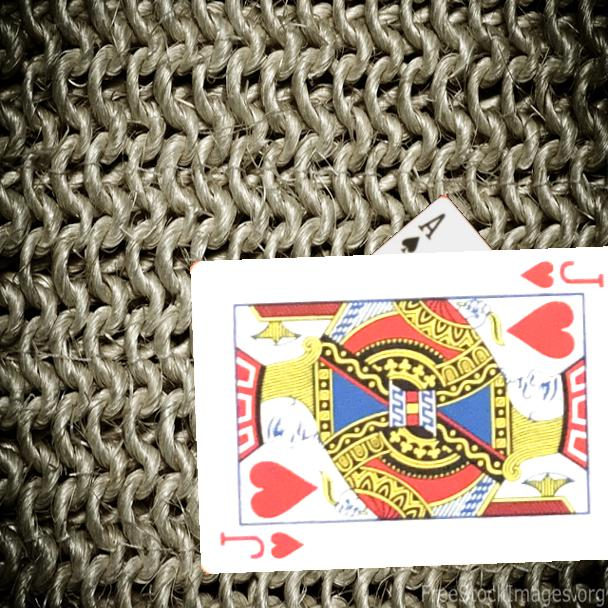h11: (217, 527, 308, 562), (517, 257, 607, 291)
s01: (397, 209, 449, 256)
